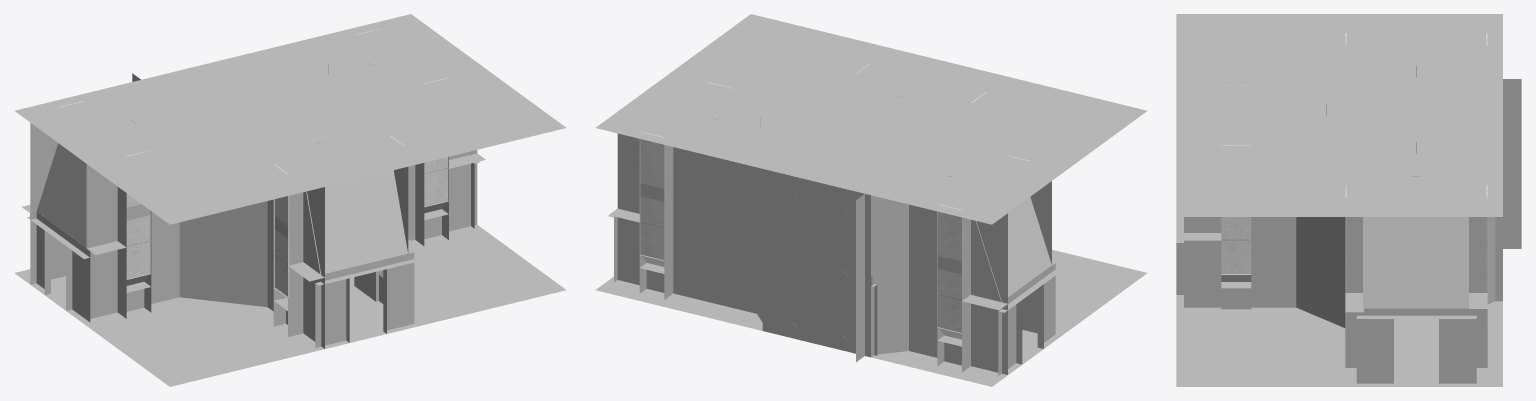
File: room3_2_opt.obj
3 views of the same model, side by side, from view 1: azimuth 30°, elevation 25°; view 2: azimuth 150°, elevation 25°; view 3: azimuth 270°, elevation 25° (orthographic). The views are drawn at different scales.
Size of the model in its own units: 2048 by 855 by 1472.
